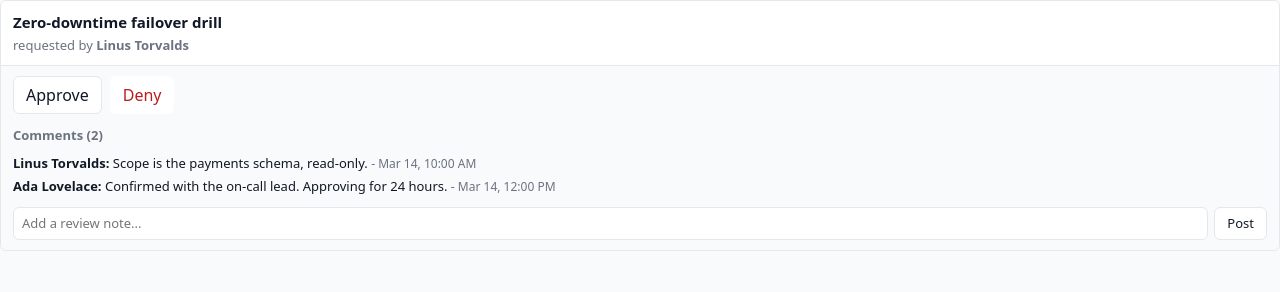
Test: RequestCard › adding a comment appends it to the end of the list
This screenshot has width=1280, height=292.
Type "Will drop the grant once this closes." into the field with placeholder "Add a review note...".
click(611, 223); type("Will drop the grant once this closes.")  # box [13,206,1208,240]
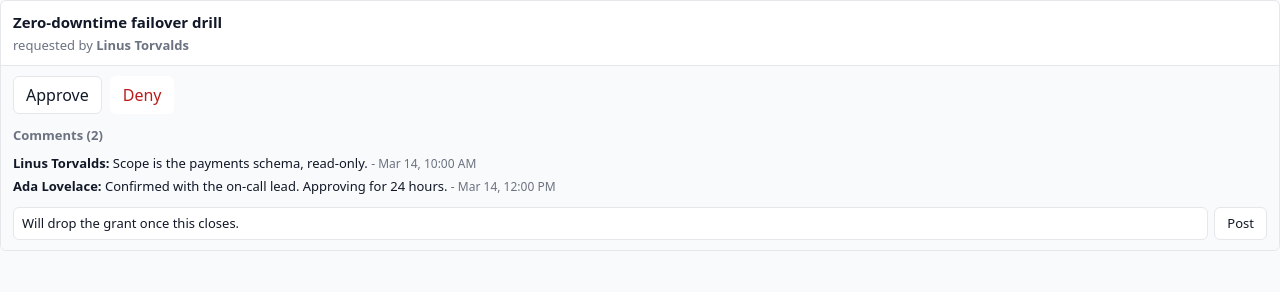
Submit the form with class "comment-form", box [13,206,1267,240]
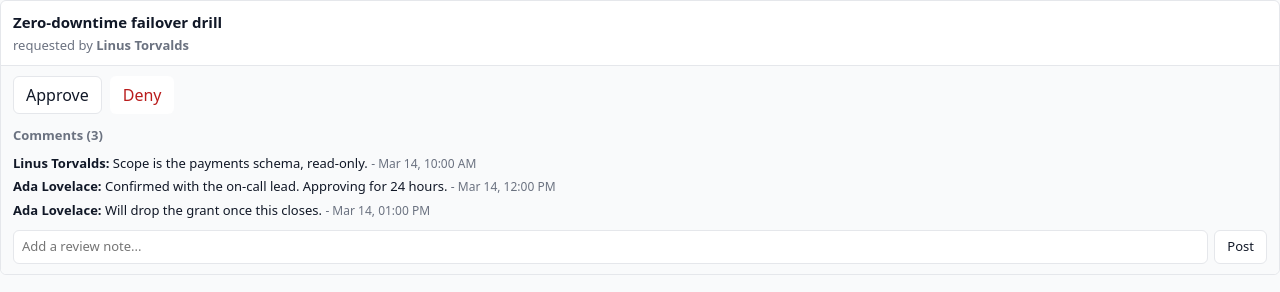
Check: the 3rd list item shows "Will drop the grant once this closes.", box [102,200,325,218]
